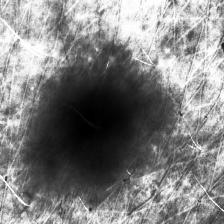Benign Marking or Mole: (66, 79, 132, 159)
